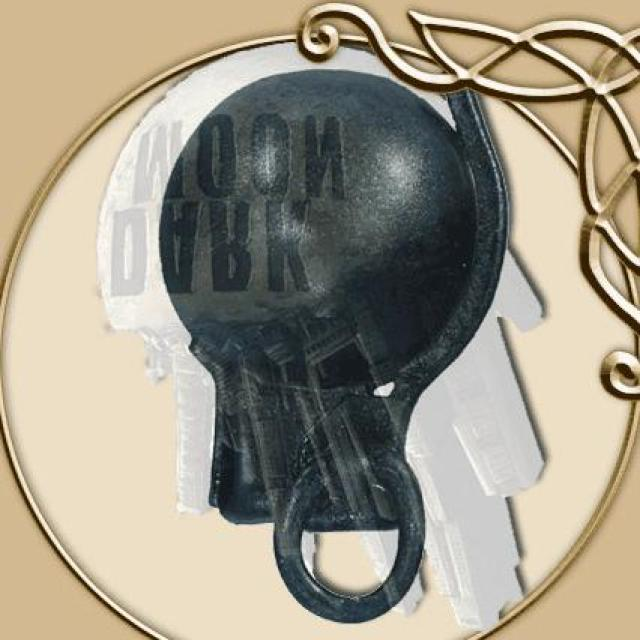grenade: (159, 68, 511, 626)
